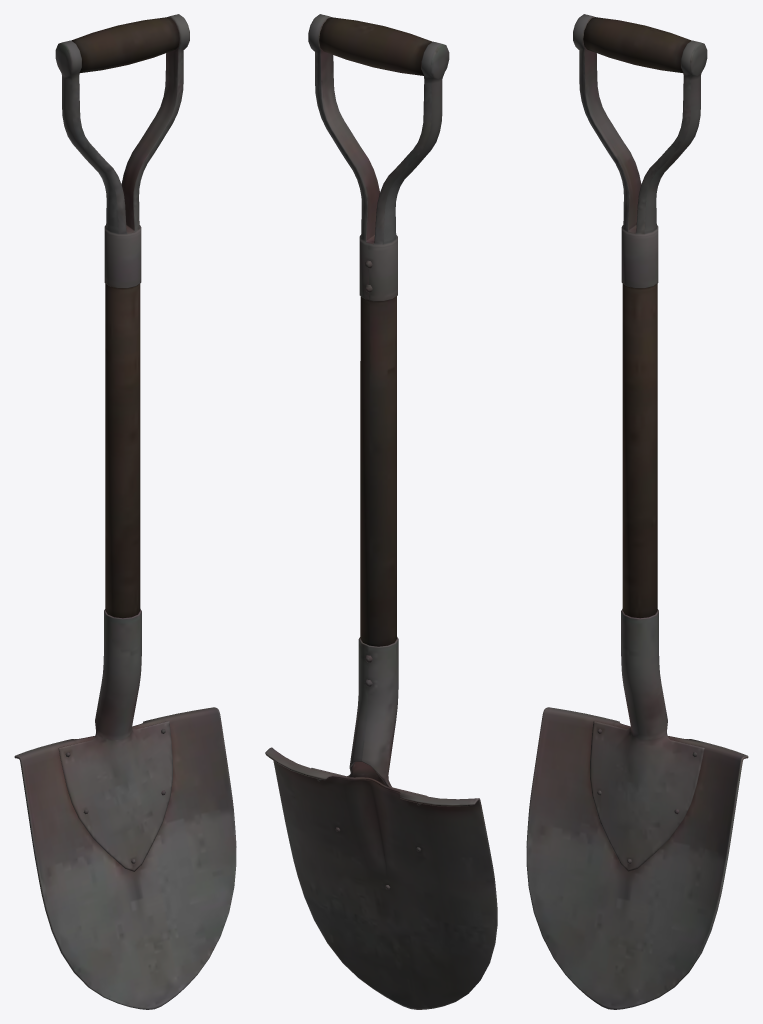
The model's file is obj_shovel.glb.
3 views of the same model, side by side, from view 1: azimuth 30°, elevation 25°; view 2: azimuth 150°, elevation 25°; view 3: azimuth 330°, elevation 25° (orthographic). The views are drawn at different scales.
Visible parts, largest first — view 1: Cherenok_Cylinder_Material_001_0; view 2: Cherenok_Cylinder_Material_001_0; view 3: Cherenok_Cylinder_Material_001_0.
Part boxes in pixels (x1,y1,x2,y2): Cherenok_Cylinder_Material_001_0: [14, 14, 236, 1009]; Cherenok_Cylinder_Material_001_0: [265, 14, 497, 1009]; Cherenok_Cylinder_Material_001_0: [526, 14, 748, 1009].
Bounding box in the file's own units: 0.2398 × 1.1 × 0.0992.
Materials: 2 (2 with a texture image).
